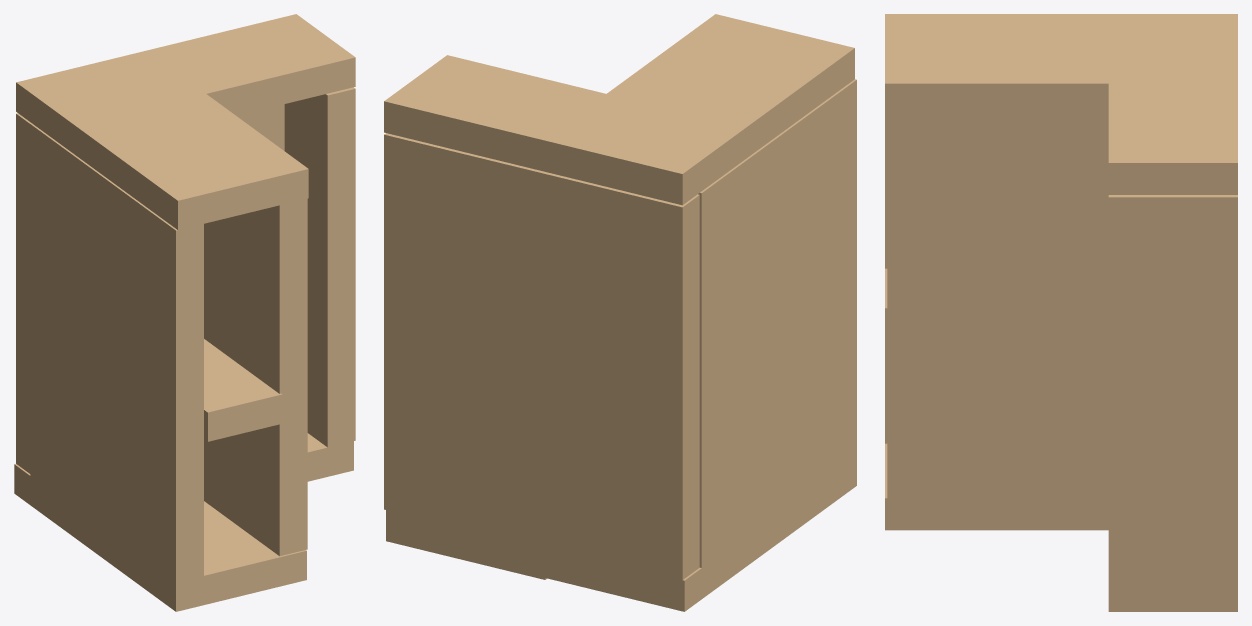
File: tinker.obj
3 renders of one model, left to right at view 1: azimuth 30°, elevation 25°; view 2: azimuth 150°, elevation 25°; view 3: azimuth 270°, elevation 25°, orthographic. The views are drawn at different scales.
Parts seen in each view (by area): view 1: obj_0; view 2: obj_0; view 3: obj_0.
Part boxes in pixels (box(x1,y1,x2,y2)): obj_0: box(14, 14, 355, 611); obj_0: box(384, 14, 856, 611); obj_0: box(885, 14, 1237, 611).
Size of the model in its own units: 151 by 211 by 150.
